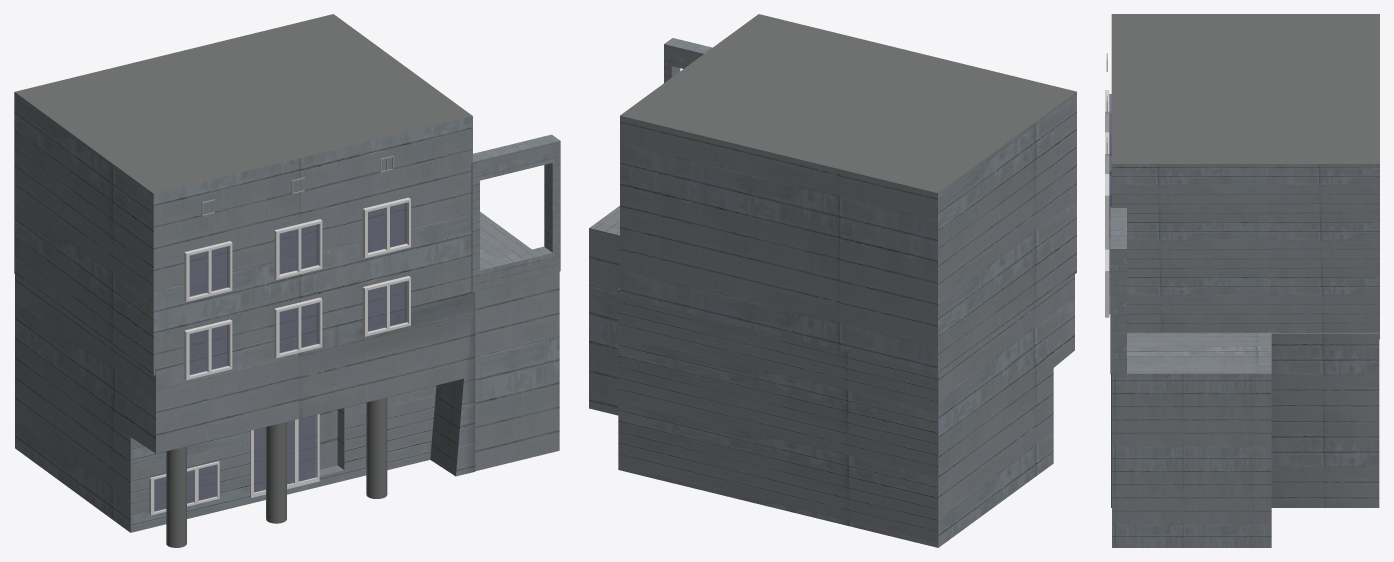
Rendered from ConstructionBulldLeft.fbx.
The picture shows the model from 3 angles, left to right: view 1: azimuth 30°, elevation 25°; view 2: azimuth 150°, elevation 25°; view 3: azimuth 270°, elevation 25°; orthographic projection. The views are drawn at different scales.
Parts seen in each view (by area): view 1: pCube5, pCube19, pCube7, pCube27, pCylinder1, pCylinder2, pCylinder3, pCube22, pCube25, pCube23, pCube24, pCube21 (+10 smaller); view 2: pCube5, pCube19, pCube7; view 3: pCube5, pCube19, pCube7, window5.
Boxes of the visible parts, box(x1,y1,x2,y2) form: pCube5: box(14, 14, 472, 375); pCube19: box(15, 211, 559, 532); pCube7: box(471, 134, 560, 292); pCube27: box(254, 415, 315, 492); pCylinder1: box(366, 397, 387, 498); pCylinder2: box(266, 422, 286, 523); pCylinder3: box(166, 446, 186, 547); pCube22: box(276, 219, 318, 274); pCube25: box(189, 324, 228, 375); pCube23: box(279, 302, 318, 353); pCube24: box(189, 246, 228, 296); pCube21: box(365, 198, 406, 252); pCube5: box(620, 14, 1076, 374); pCube19: box(589, 206, 1074, 547); pCube7: box(664, 38, 712, 82); pCube5: box(1111, 14, 1379, 339); pCube19: box(1111, 332, 1379, 547); pCube7: box(1110, 207, 1126, 374); window5: box(1105, 249, 1109, 317).
Size of the model in its own units: 22.93 by 19.57 by 13.95.
Materials: 5 (1 with a texture image).
